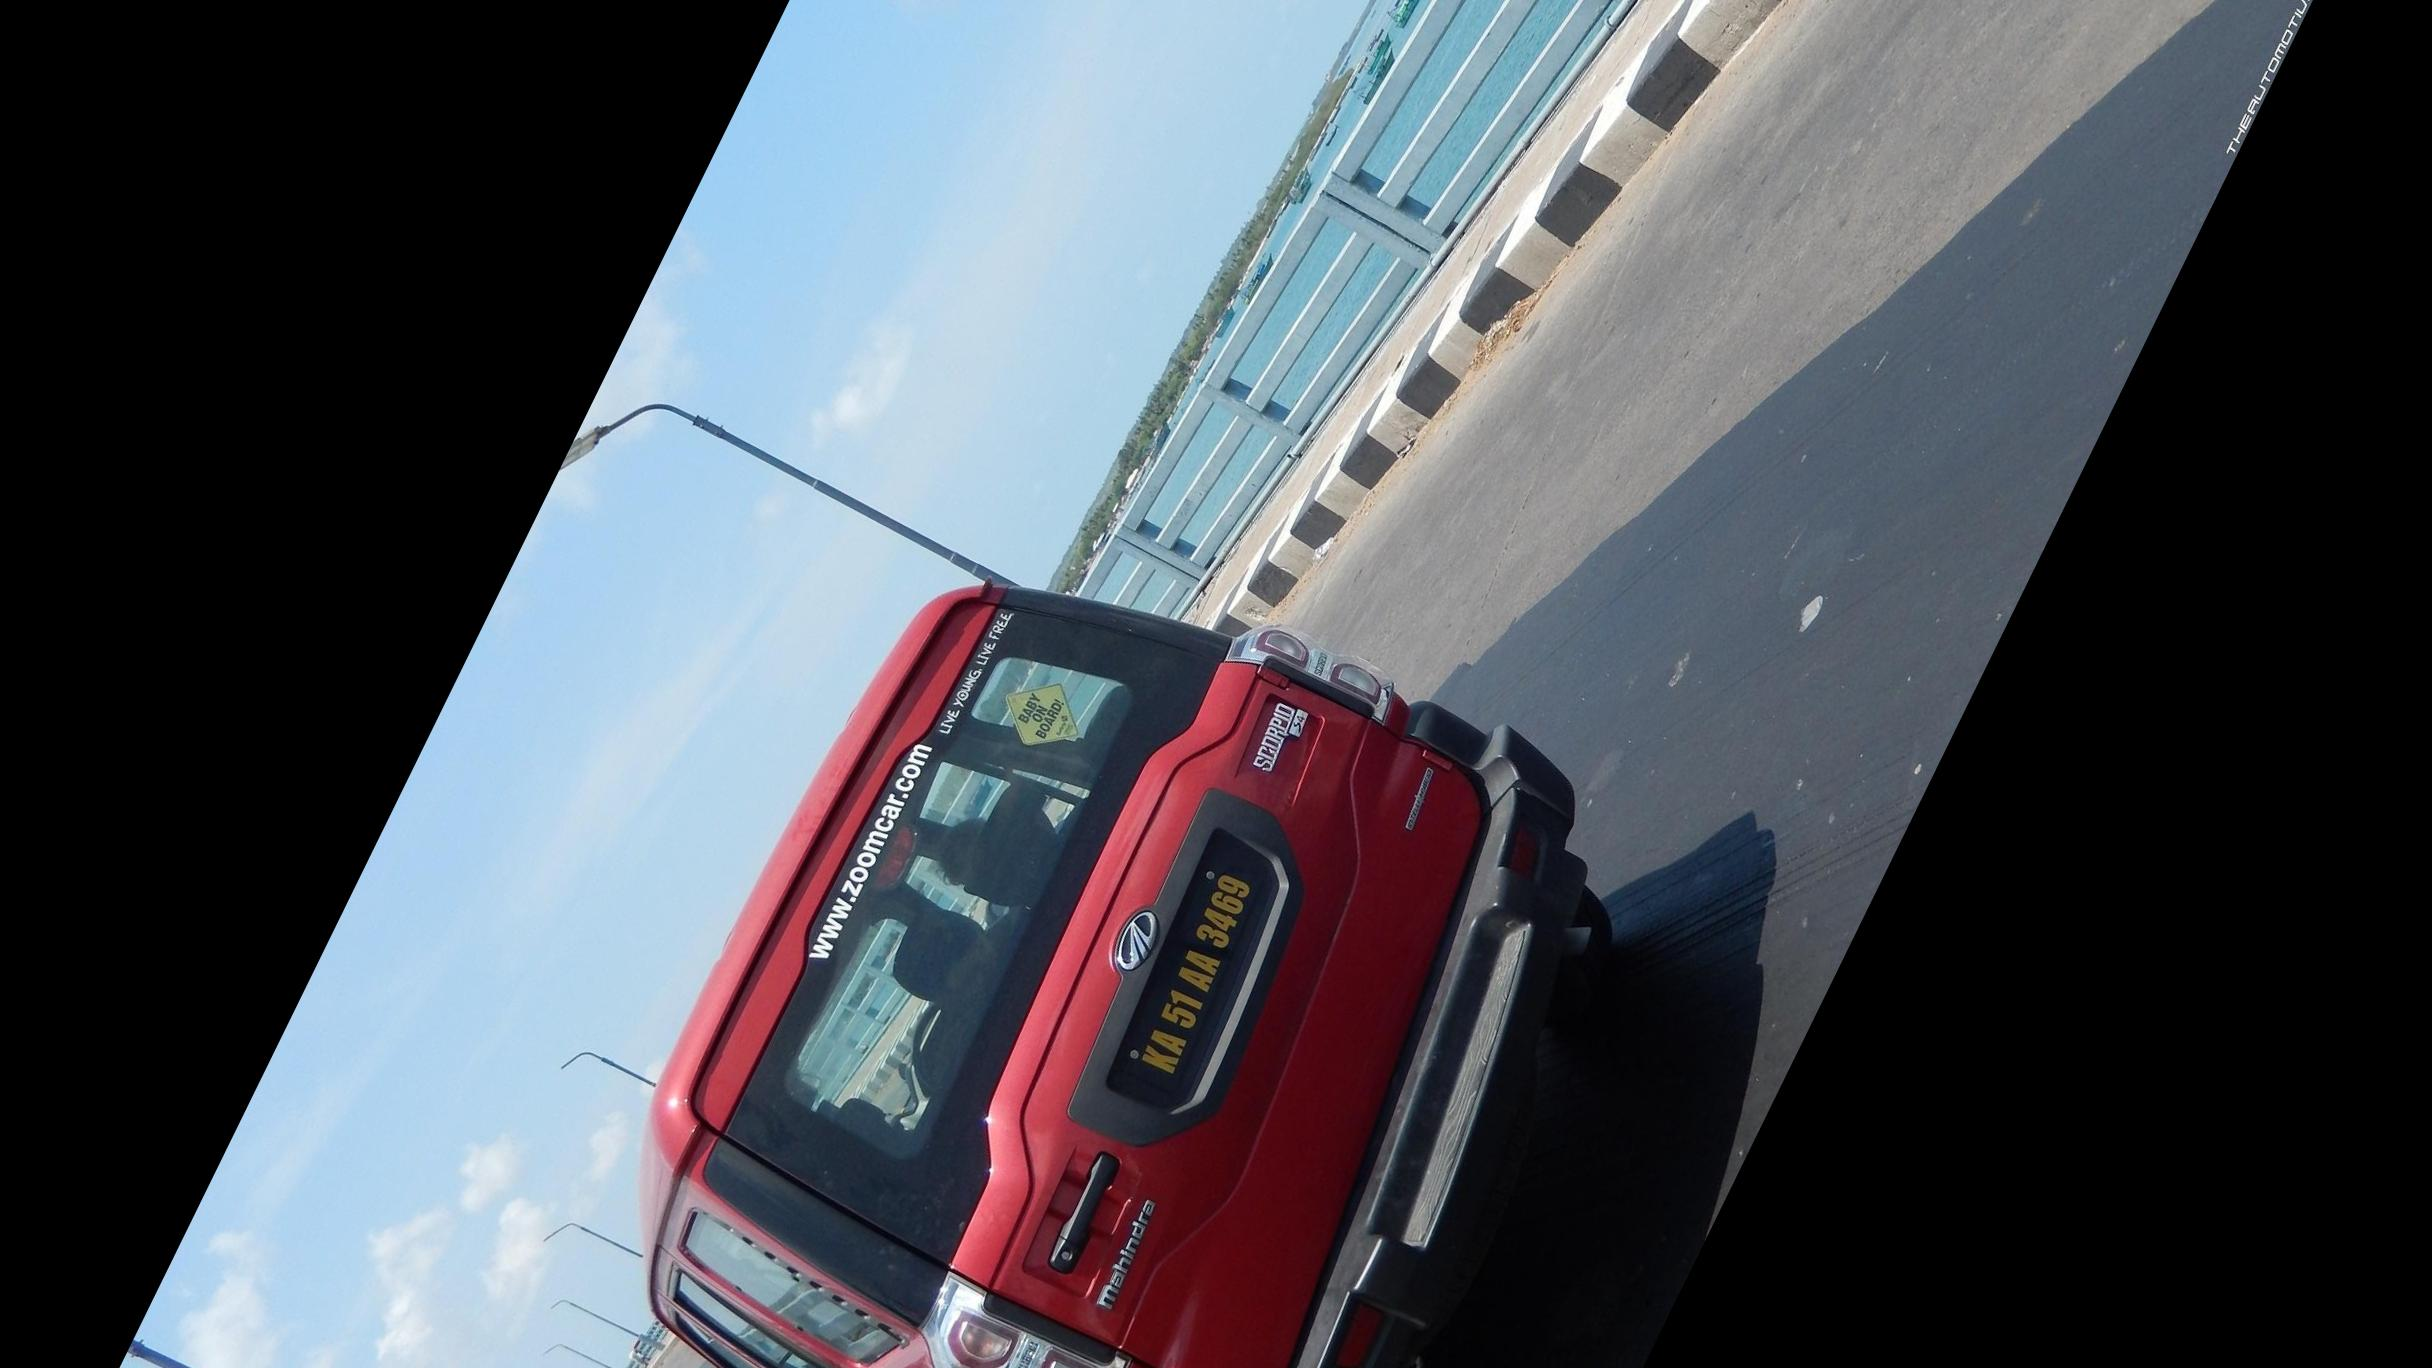plate: (1056, 787, 1317, 1155)
